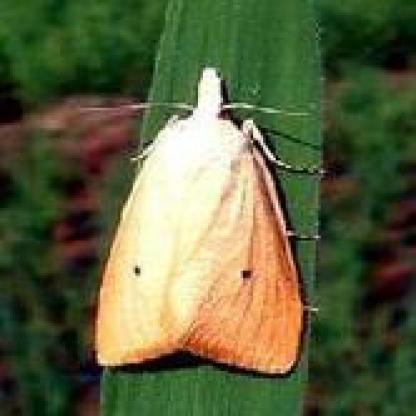stem-borer: (96, 64, 319, 378)
